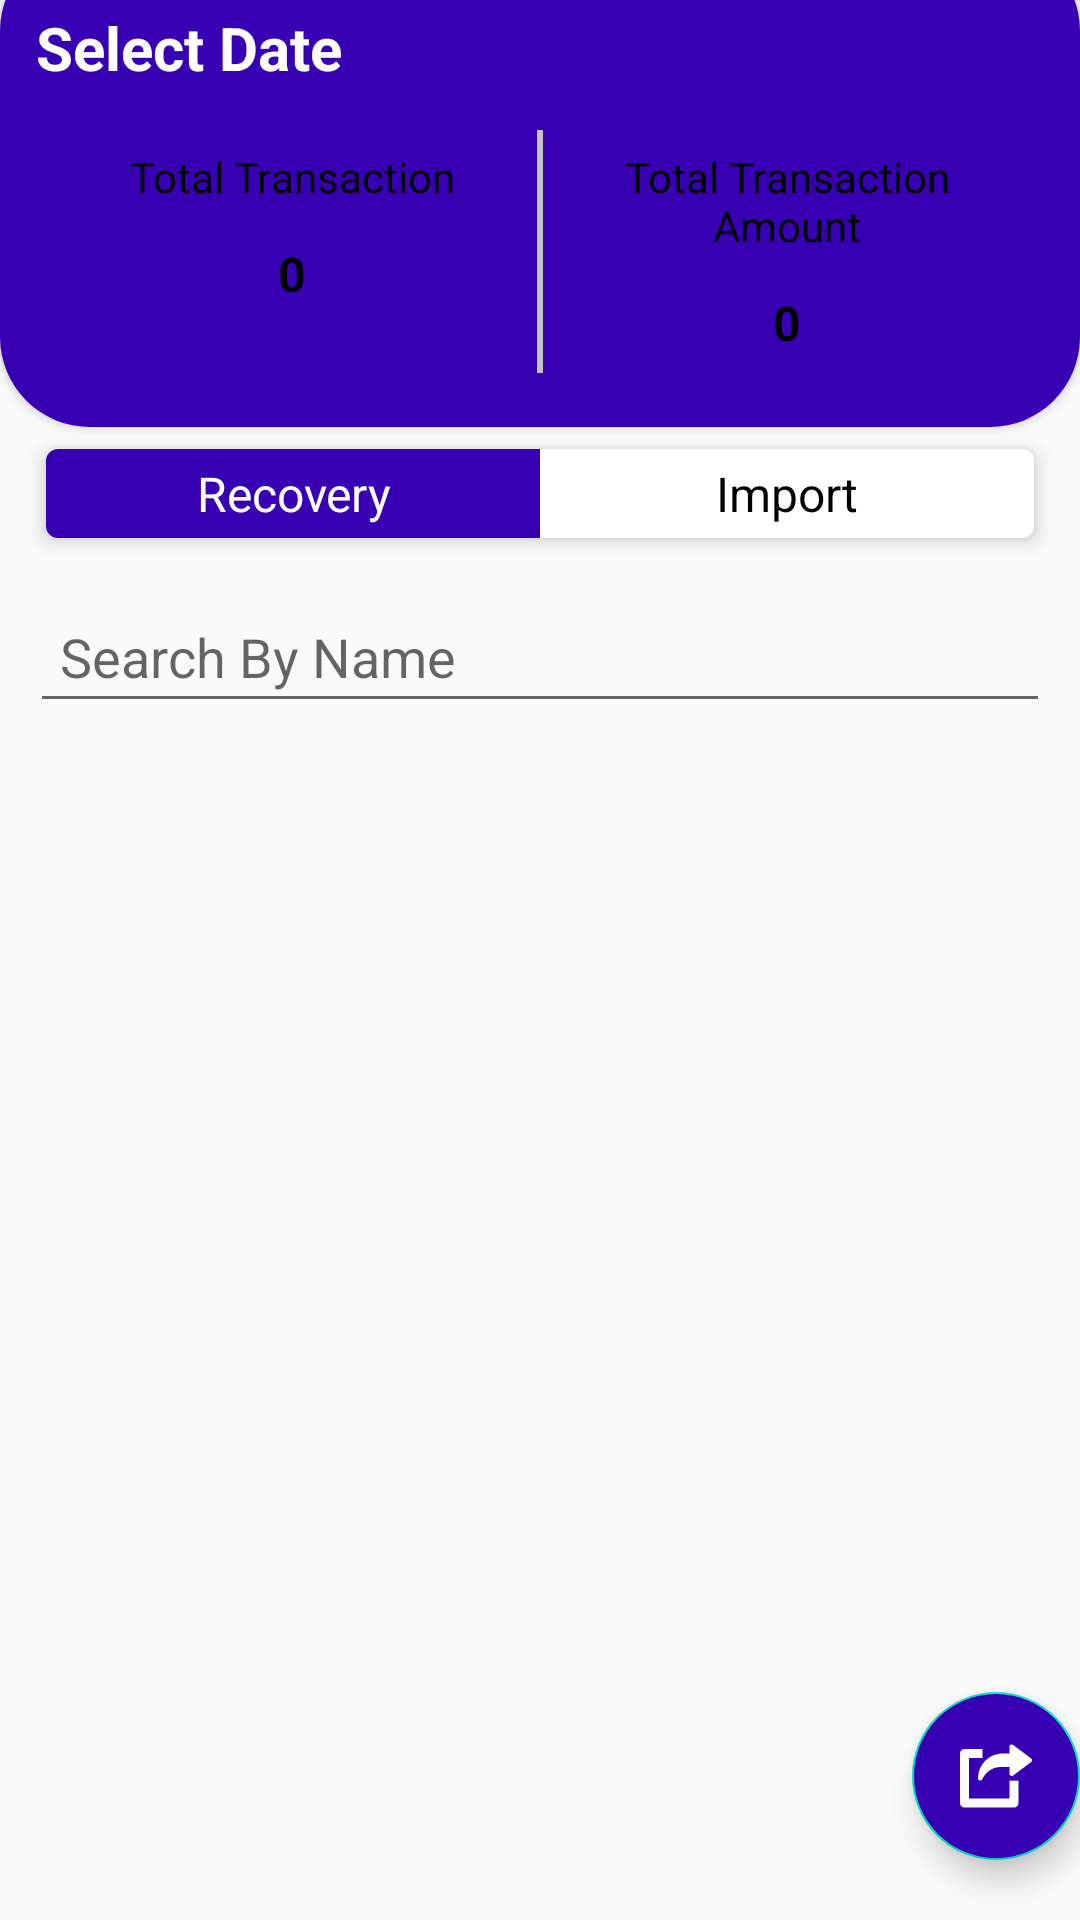

Screen size 1080×1920. Icon name, then its box in pixels as [x1, y1, x2, y2]:
export: [912, 1692, 1080, 1860]
